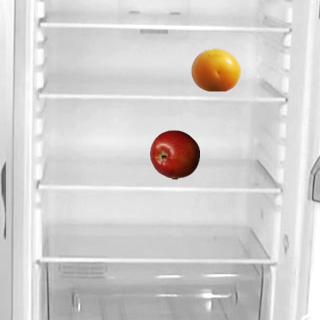Apple Braeburn: (149, 129, 199, 179)
Cherry Wax Yellow: (190, 44, 240, 94)
